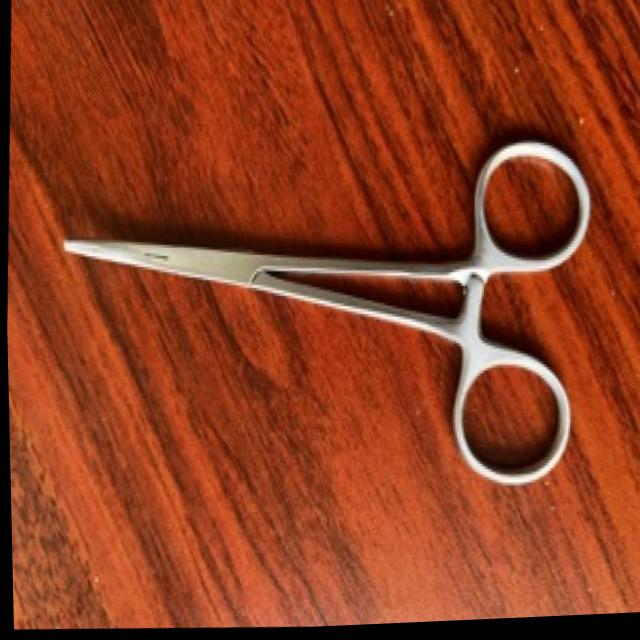scissor: (46, 121, 601, 518)
